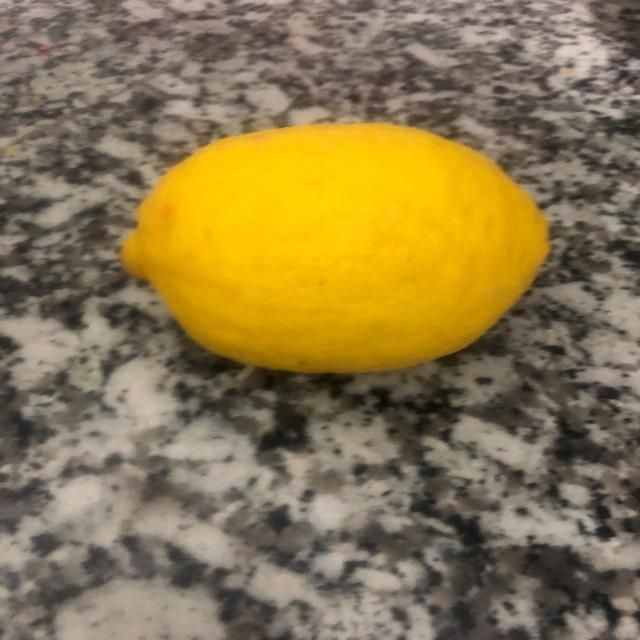lemon: (112, 112, 563, 381)
